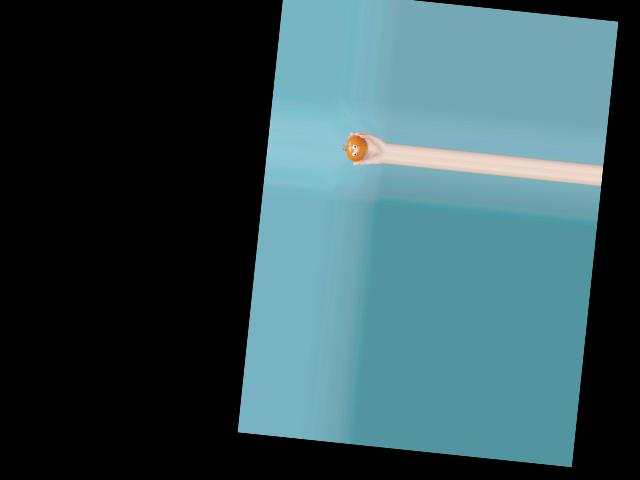tomato: (344, 134, 369, 163)
